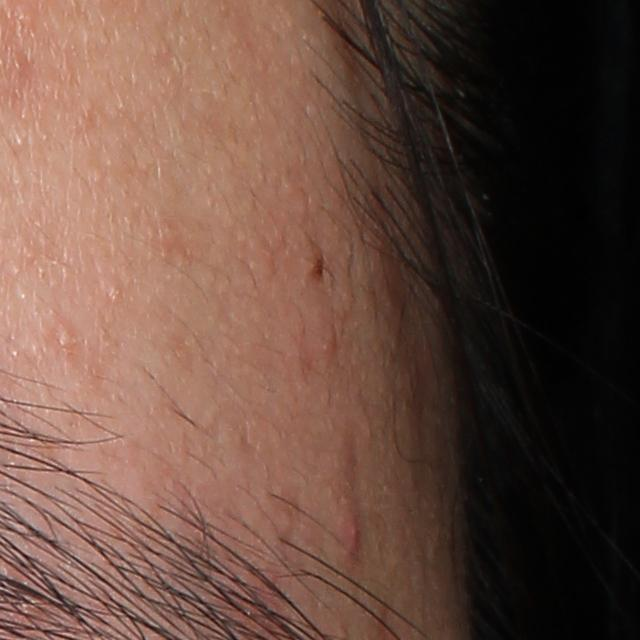comedo: (57, 328, 76, 355), (106, 281, 125, 304)
nevus: (309, 251, 327, 284)
papule: (336, 515, 365, 562)
